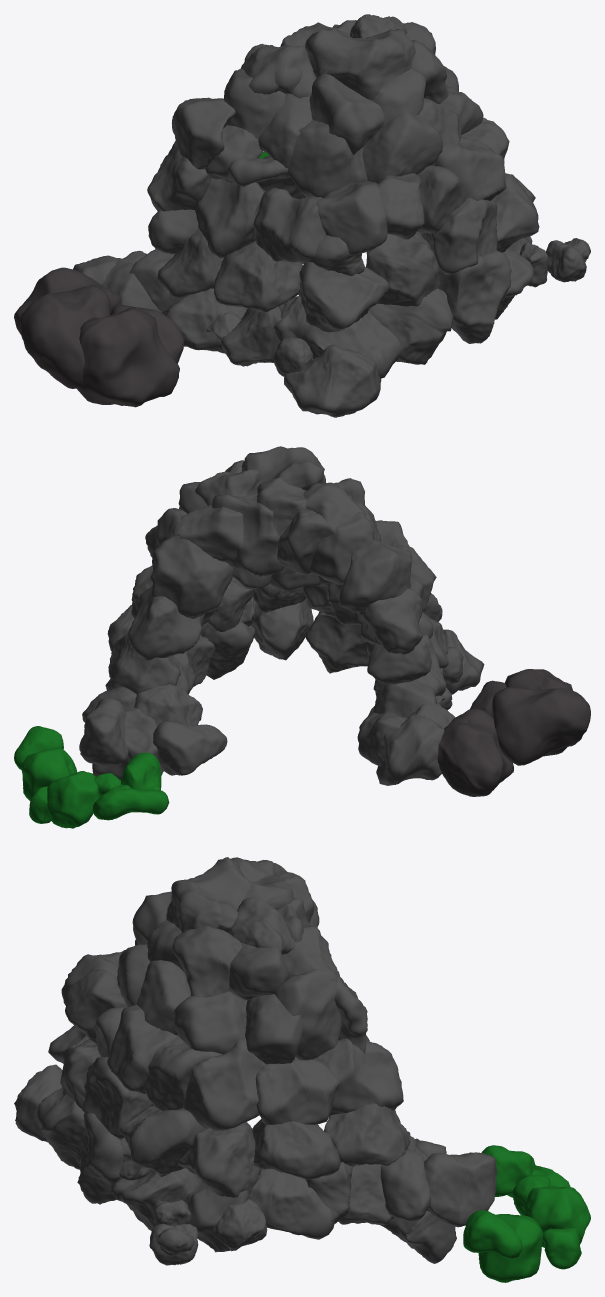
File: cave_color_fix-model.fbx
The picture shows the model from 3 angles, top to bottom: view 1: azimuth 30°, elevation 25°; view 2: azimuth 150°, elevation 25°; view 3: azimuth 270°, elevation 25°; orthographic projection. The views are drawn at different scales.
Visible parts, largest first — view 1: rock, rock.013; view 2: rock, rock.013, rock.014; view 3: rock, rock.014.
Part boxes in pixels (left/top/right/bottom): rock: left=73, top=14, right=590, bottom=417; rock.013: left=14, top=267, right=183, bottom=407; rock: left=79, top=446, right=484, bottom=785; rock.013: left=437, top=669, right=590, bottom=796; rock.014: left=14, top=726, right=169, bottom=828; rock: left=14, top=857, right=497, bottom=1265; rock.014: left=463, top=1145, right=590, bottom=1282.
Bounding box in the file's own units: 859 × 492 × 758.
